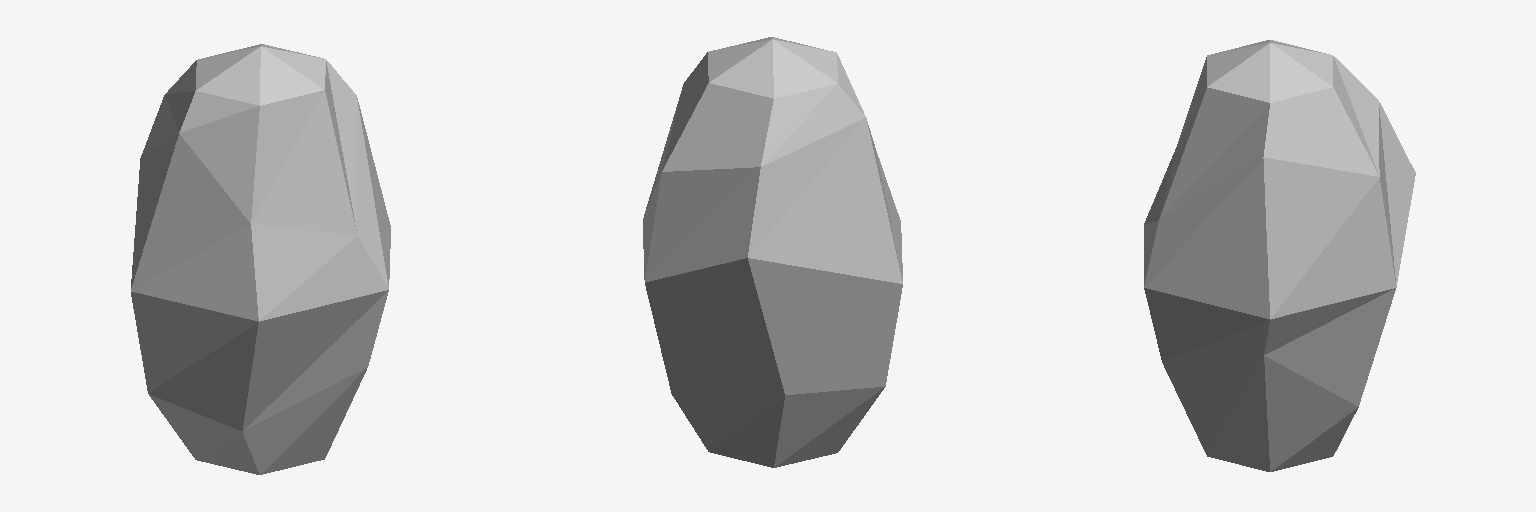
The model's file is POtato.obj.
The picture shows the model from 3 angles: view 1: azimuth 30°, elevation 25°; view 2: azimuth 150°, elevation 25°; view 3: azimuth 270°, elevation 25°; orthographic projection.
Parts seen in each view (by area): view 1: Potato; view 2: Potato; view 3: Potato.
Boxes of the visible parts, x1=… form: Potato: x1=131, y1=44, x2=390, y2=474; Potato: x1=643, y1=37, x2=902, y2=467; Potato: x1=1144, y1=40, x2=1415, y2=471.
Size of the model in its own units: 1.28 by 2 by 1.16.